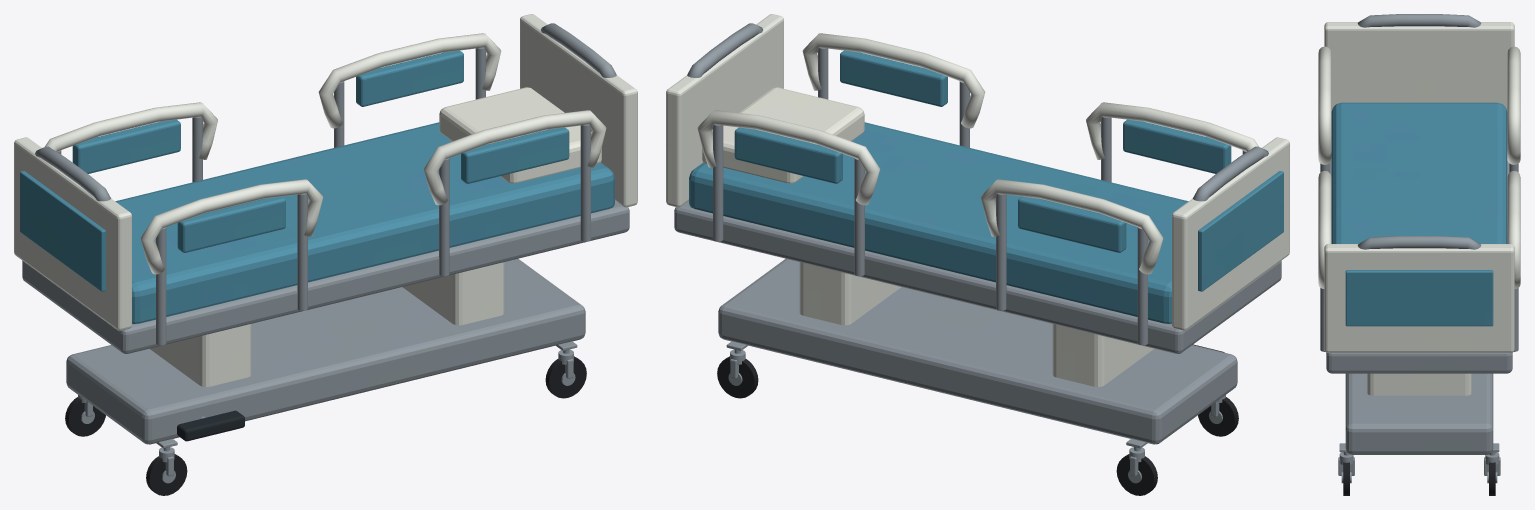
Rendered from patient-transport-stretcher.glb.
The picture shows the model from 3 angles, left to right: view 1: azimuth 30°, elevation 25°; view 2: azimuth 150°, elevation 25°; view 3: azimuth 270°, elevation 25°; orthographic projection. The views are drawn at different scales.
Visible parts, largest first — view 1: Patient mattress, Patient bed rolling base, Bed mattress platform, Bed end panel.001, Bed end panel, Inset end panel, Bed pillow, Lift pedestal.001, Lift pedestal, Side rail center panel, Side rail center panel.001, Side rail center panel.003 (+16 smaller); view 2: Patient mattress, Patient bed rolling base, Bed mattress platform, Bed end panel.001, Bed end panel, Inset end panel, Bed pillow, Lift pedestal.001, Lift pedestal, Side rail center panel.002, Side rail center panel.003, Side rail center panel.001 (+15 smaller); view 3: Patient mattress, Bed end panel, Bed end panel.001, Patient bed rolling base, Inset end panel.001, Bed mattress platform, Lift pedestal.001, Bed side safety rail, Bed side safety rail.002, End lifting grip, End lifting grip.001, Bed side safety rail.001 (+5 smaller).
Part boxes in pixels (x1=…): Patient mattress: x1=115, y1=122, x2=614, y2=323; Patient bed rolling base: x1=66, y1=259, x2=585, y2=444; Bed mattress platform: x1=22, y1=201, x2=629, y2=353; Bed end panel.001: x1=520, y1=14, x2=637, y2=207; Bed end panel: x1=14, y1=137, x2=131, y2=330; Inset end panel: x1=20, y1=171, x2=105, y2=291; Bed pillow: x1=439, y1=87, x2=601, y2=183; Lift pedestal.001: x1=402, y1=262, x2=504, y2=325; Lift pedestal: x1=150, y1=324, x2=251, y2=386; Side rail center panel: x1=177, y1=196, x2=285, y2=252; Side rail center panel.001: x1=461, y1=127, x2=569, y2=183; Side rail center panel.003: x1=356, y1=50, x2=463, y2=106; Patient mattress: x1=689, y1=122, x2=1188, y2=323; Patient bed rolling base: x1=718, y1=259, x2=1237, y2=444; Bed mattress platform: x1=674, y1=201, x2=1281, y2=353; Bed end panel.001: x1=666, y1=14, x2=783, y2=207; Bed end panel: x1=1172, y1=137, x2=1289, y2=330; Inset end panel: x1=1198, y1=171, x2=1283, y2=291; Bed pillow: x1=702, y1=87, x2=864, y2=183; Lift pedestal.001: x1=799, y1=262, x2=901, y2=325; Lift pedestal: x1=1052, y1=324, x2=1153, y2=386; Side rail center panel.002: x1=1018, y1=196, x2=1126, y2=252; Side rail center panel.003: x1=734, y1=127, x2=842, y2=183; Side rail center panel.001: x1=840, y1=50, x2=947, y2=106; Patient mattress: x1=1331, y1=102, x2=1507, y2=243; Bed end panel: x1=1324, y1=22, x2=1514, y2=110; Bed end panel.001: x1=1324, y1=244, x2=1514, y2=352; Patient bed rolling base: x1=1345, y1=373, x2=1493, y2=454; Inset end panel.001: x1=1345, y1=270, x2=1493, y2=326; Bed mattress platform: x1=1326, y1=160, x2=1512, y2=373; Lift pedestal.001: x1=1367, y1=373, x2=1471, y2=395; Bed side safety rail: x1=1318, y1=46, x2=1331, y2=164; Bed side safety rail.002: x1=1507, y1=46, x2=1520, y2=164; End lifting grip: x1=1357, y1=14, x2=1481, y2=27; End lifting grip.001: x1=1357, y1=236, x2=1481, y2=249; Bed side safety rail.001: x1=1318, y1=171, x2=1331, y2=288.
Bounding box in the file's own units: 2.1 × 1.18 × 0.77.
6 materials, 6 textured.
